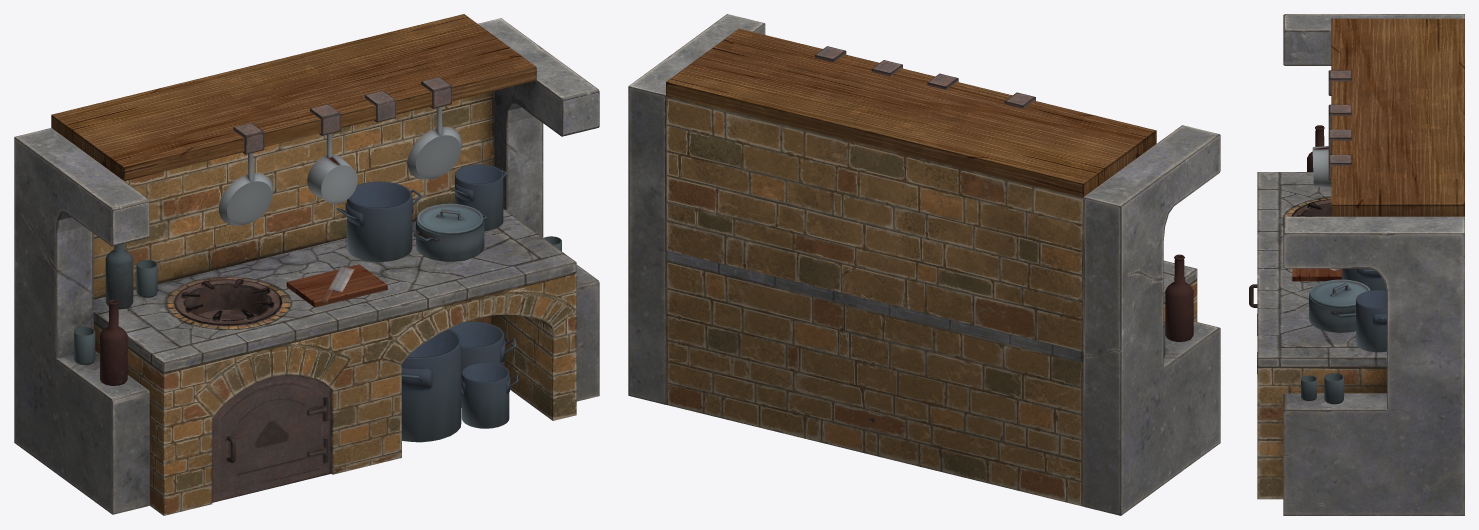
Rendered from sb_obj_indoor001_OldKitchen_set01.fbx.
3 views of the same model, side by side, from view 1: azimuth 30°, elevation 25°; view 2: azimuth 150°, elevation 25°; view 3: azimuth 270°, elevation 25° (orthographic). The views are drawn at different scales.
Visible parts, largest first — view 1: sb_obj_indoor001_OldKitchen_set01; view 2: sb_obj_indoor001_OldKitchen_set01; view 3: sb_obj_indoor001_OldKitchen_set01.
Boxes of the visible parts, box(x1,y1,x2,y2) form: sb_obj_indoor001_OldKitchen_set01: box(14, 14, 599, 515); sb_obj_indoor001_OldKitchen_set01: box(628, 14, 1220, 515); sb_obj_indoor001_OldKitchen_set01: box(1249, 14, 1464, 515).
Size of the model in its own units: 2.5 by 1.58 by 1.04.
